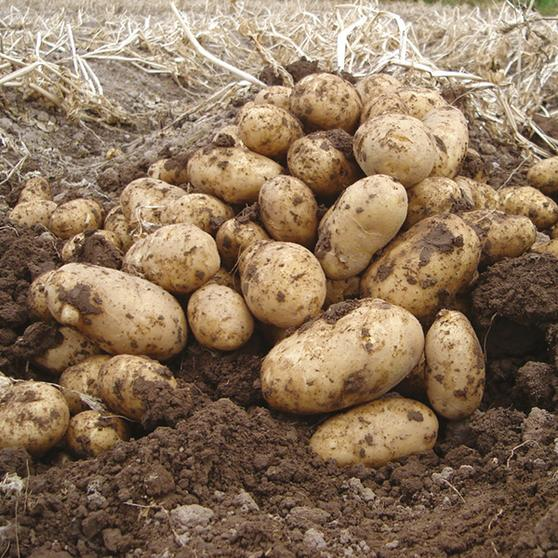potato: (254, 285, 426, 412), (26, 260, 190, 355), (308, 172, 414, 273), (305, 396, 444, 464), (238, 239, 327, 326), (350, 112, 439, 184), (189, 146, 290, 205)
